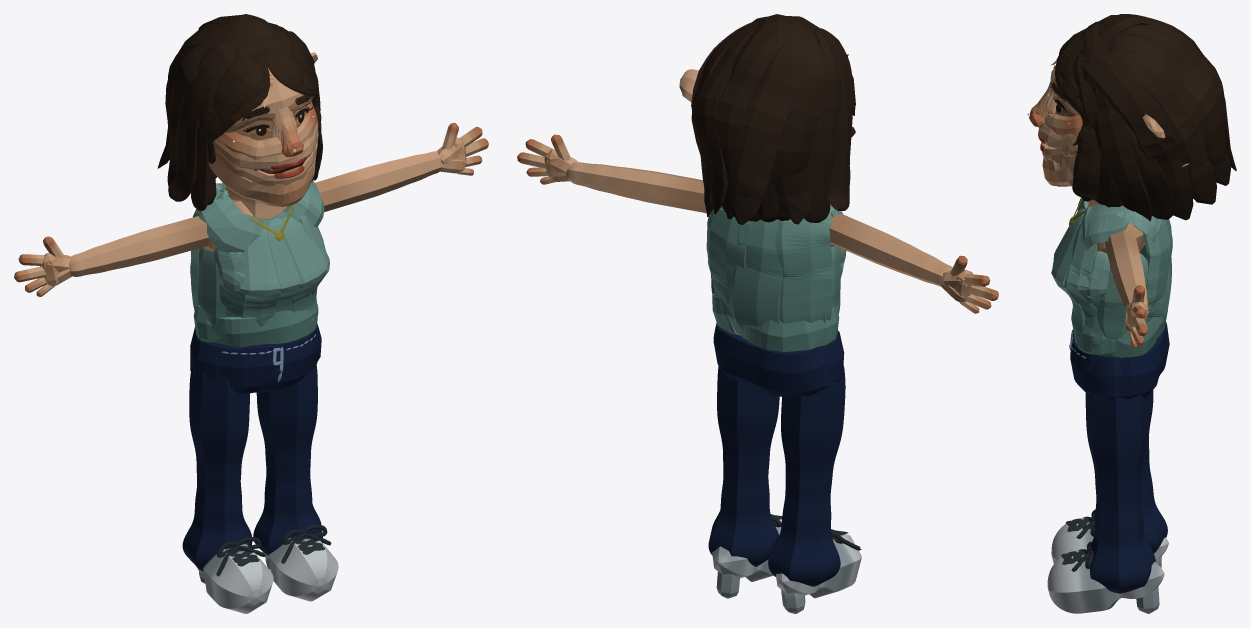
File: Daugghter.fbx
3 renders of one model, left to right at view 1: azimuth 30°, elevation 25°; view 2: azimuth 150°, elevation 25°; view 3: azimuth 270°, elevation 25°, orthographic. The views are drawn at different scales.
Parts seen in each view (by area): view 1: Lowerbody, Body, Hair, Arms, Skin-2, Shoe, Neck; view 2: Hair, Lowerbody, Body, Arms, Shoe; view 3: Hair, Lowerbody, Body, Shoe, Skin-2, Arms, Neck.
Part boxes in pixels (x1=…): Lowerbody: x1=182, y1=323, x2=323, y2=571; Body: x1=190, y1=180, x2=329, y2=347; Hair: x1=157, y1=14, x2=322, y2=210; Arms: x1=14, y1=122, x2=488, y2=296; Skin-2: x1=208, y1=52, x2=318, y2=206; Shoe: x1=197, y1=524, x2=338, y2=613; Neck: x1=203, y1=172, x2=286, y2=251; Hair: x1=691, y1=14, x2=855, y2=224; Lowerbody: x1=708, y1=323, x2=845, y2=586; Body: x1=706, y1=204, x2=846, y2=351; Arms: x1=517, y1=134, x2=998, y2=313; Shoe: x1=712, y1=514, x2=861, y2=613; Hair: x1=1055, y1=14, x2=1236, y2=220; Lowerbody: x1=1069, y1=322, x2=1169, y2=593; Body: x1=1051, y1=197, x2=1172, y2=357; Shoe: x1=1047, y1=509, x2=1168, y2=613; Skin-2: x1=1029, y1=47, x2=1189, y2=186; Arms: x1=1105, y1=227, x2=1148, y2=347; Neck: x1=1088, y1=199, x2=1144, y2=253.
Size of the model in its own units: 1.27 by 1.47 by 0.4842.
